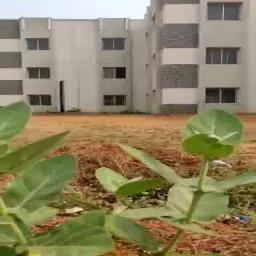Calotropis: (0, 100, 255, 255)
